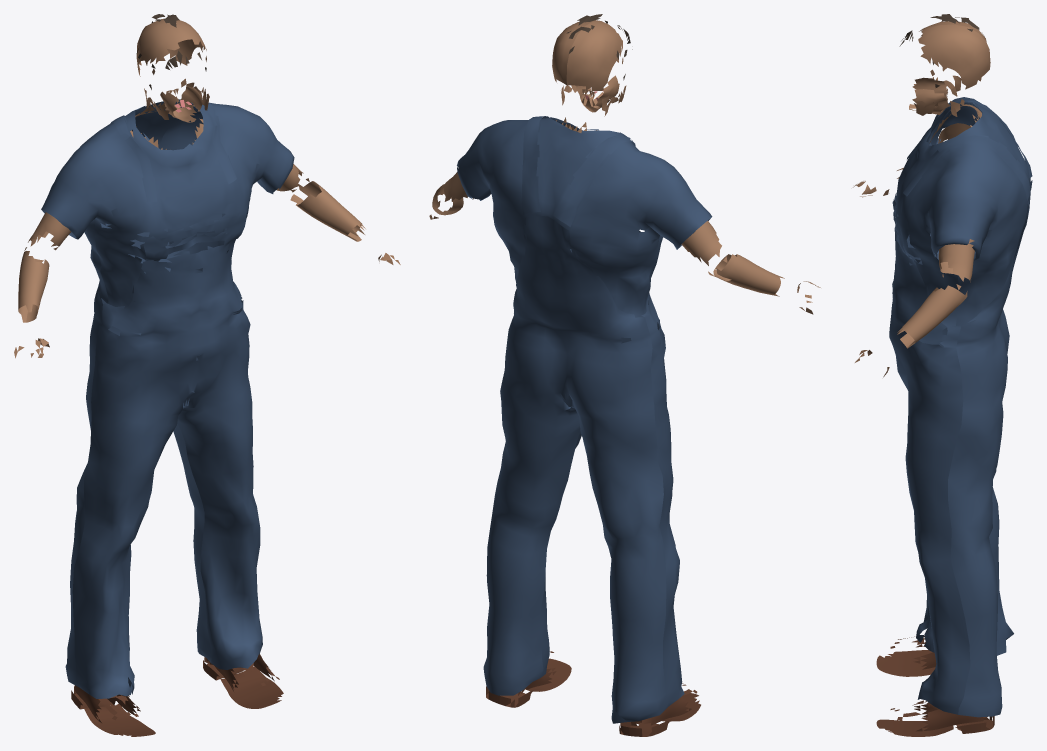
The model's file is avatar_texture.obj.
The picture shows the model from 3 angles, left to right: view 1: azimuth 30°, elevation 25°; view 2: azimuth 150°, elevation 25°; view 3: azimuth 270°, elevation 25°; orthographic projection.
Parts seen in each view (by area): view 1: Mesh68 Model, Mesh67 Model, Mesh84 Model, Mesh24 Model, Mesh90 Model, Mesh86 Model, Mesh28 Model, Mesh92 Model, Mesh85 Model, Mesh74 Model; view 2: Mesh68 Model, Mesh67 Model, Mesh84 Model, Mesh75 Model, Mesh86 Model, Mesh24 Model, Mesh28 Model, Mesh85 Model, Mesh92 Model; view 3: Mesh68 Model, Mesh67 Model, Mesh84 Model, Mesh90 Model, Mesh24 Model, Mesh28 Model, Mesh89 Model, Mesh92 Model, Mesh34 Model, Mesh85 Model.
Boxes of the visible parts, box(x1,y1,x2,y2) form: Mesh68 Model: box(65, 214, 262, 698); Mesh67 Model: box(41, 99, 294, 308); Mesh84 Model: box(136, 19, 206, 76); Mesh24 Model: box(203, 657, 283, 708); Mesh90 Model: box(290, 181, 365, 241); Mesh86 Model: box(18, 251, 49, 322); Mesh28 Model: box(71, 686, 155, 736); Mesh92 Model: box(160, 86, 202, 122); Mesh85 Model: box(28, 212, 71, 246); Mesh74 Model: box(124, 136, 157, 201); Mesh68 Model: box(483, 213, 684, 723); Mesh67 Model: box(457, 116, 712, 317); Mesh84 Model: box(552, 20, 622, 90); Mesh75 Model: box(553, 135, 632, 226); Mesh86 Model: box(708, 254, 784, 296); Mesh24 Model: box(486, 658, 571, 707); Mesh28 Model: box(619, 693, 700, 736); Mesh85 Model: box(681, 221, 721, 265); Mesh92 Model: box(576, 75, 619, 112); Mesh68 Model: box(889, 180, 1032, 717); Mesh67 Model: box(895, 97, 1030, 327); Mesh84 Model: box(918, 21, 990, 89); Mesh90 Model: box(897, 285, 967, 348); Mesh24 Model: box(876, 716, 994, 736); Mesh28 Model: box(876, 650, 935, 676); Mesh89 Model: box(938, 239, 974, 282); Mesh92 Model: box(909, 77, 947, 114); Mesh34 Model: box(921, 709, 983, 730); Mesh85 Model: box(938, 123, 970, 143).
Bounding box in the file's own units: 0.3696 × 0.6381 × 0.1547.
